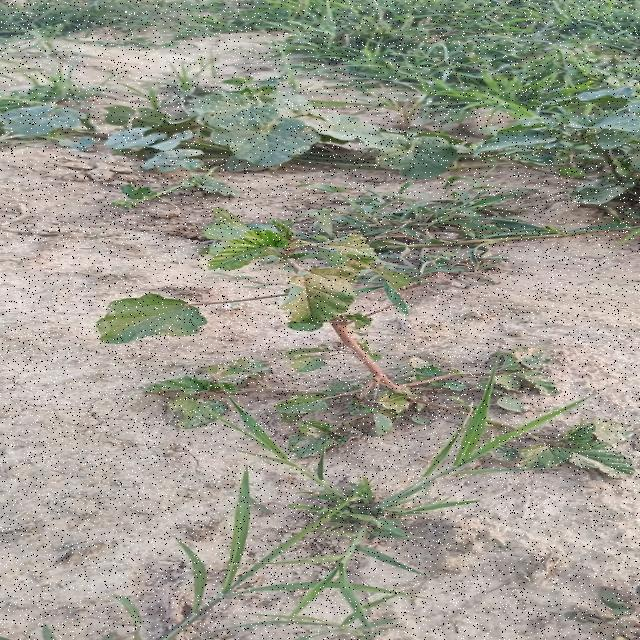plant: (202, 185, 559, 458), (146, 359, 281, 429), (489, 420, 634, 476), (99, 291, 214, 343)
